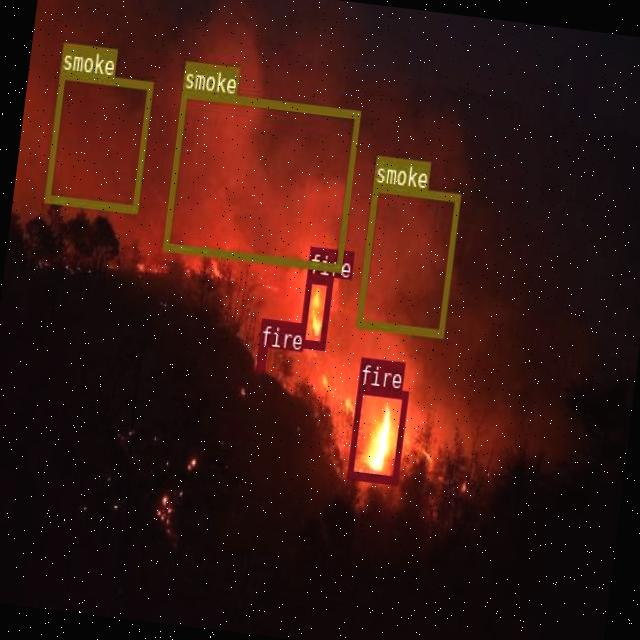fire: (346, 384, 407, 482), (298, 272, 332, 348), (255, 346, 266, 371)
smoke: (161, 86, 360, 271), (355, 181, 459, 336), (44, 70, 152, 212)
